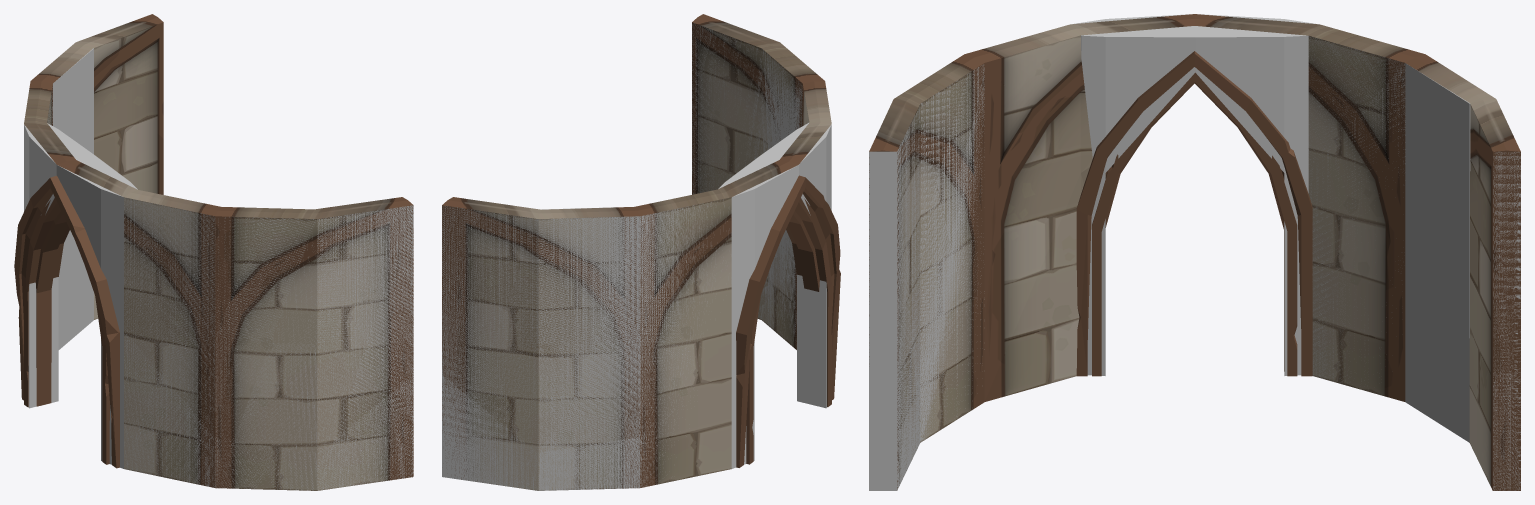
The model's file is SM_Bld_Wall_Doorway_Curved_Double_01.fbx.
3 views of the same model, side by side, from view 1: azimuth 30°, elevation 25°; view 2: azimuth 150°, elevation 25°; view 3: azimuth 270°, elevation 25° (orthographic). The views are drawn at different scales.
Parts seen in each view (by area): view 1: SM_Bld_Wall_Doorway_Curved_Double_01, SM_Bld_Wall_Doorway_Curved_Double_01_ConvexHulls; view 2: SM_Bld_Wall_Doorway_Curved_Double_01, SM_Bld_Wall_Doorway_Curved_Double_01_ConvexHulls; view 3: SM_Bld_Wall_Doorway_Curved_Double_01, SM_Bld_Wall_Doorway_Curved_Double_01_ConvexHulls.
Boxes of the visible parts, x1,y1,x2,y2 form: SM_Bld_Wall_Doorway_Curved_Double_01: [14, 14, 413, 490]; SM_Bld_Wall_Doorway_Curved_Double_01_ConvexHulls: [24, 48, 413, 490]; SM_Bld_Wall_Doorway_Curved_Double_01: [442, 14, 840, 490]; SM_Bld_Wall_Doorway_Curved_Double_01_ConvexHulls: [442, 23, 831, 490]; SM_Bld_Wall_Doorway_Curved_Double_01: [869, 14, 1520, 490]; SM_Bld_Wall_Doorway_Curved_Double_01_ConvexHulls: [869, 14, 1520, 490].
Bounding box in the file's own units: 269 × 523 × 301.
3 materials, 2 textured.
